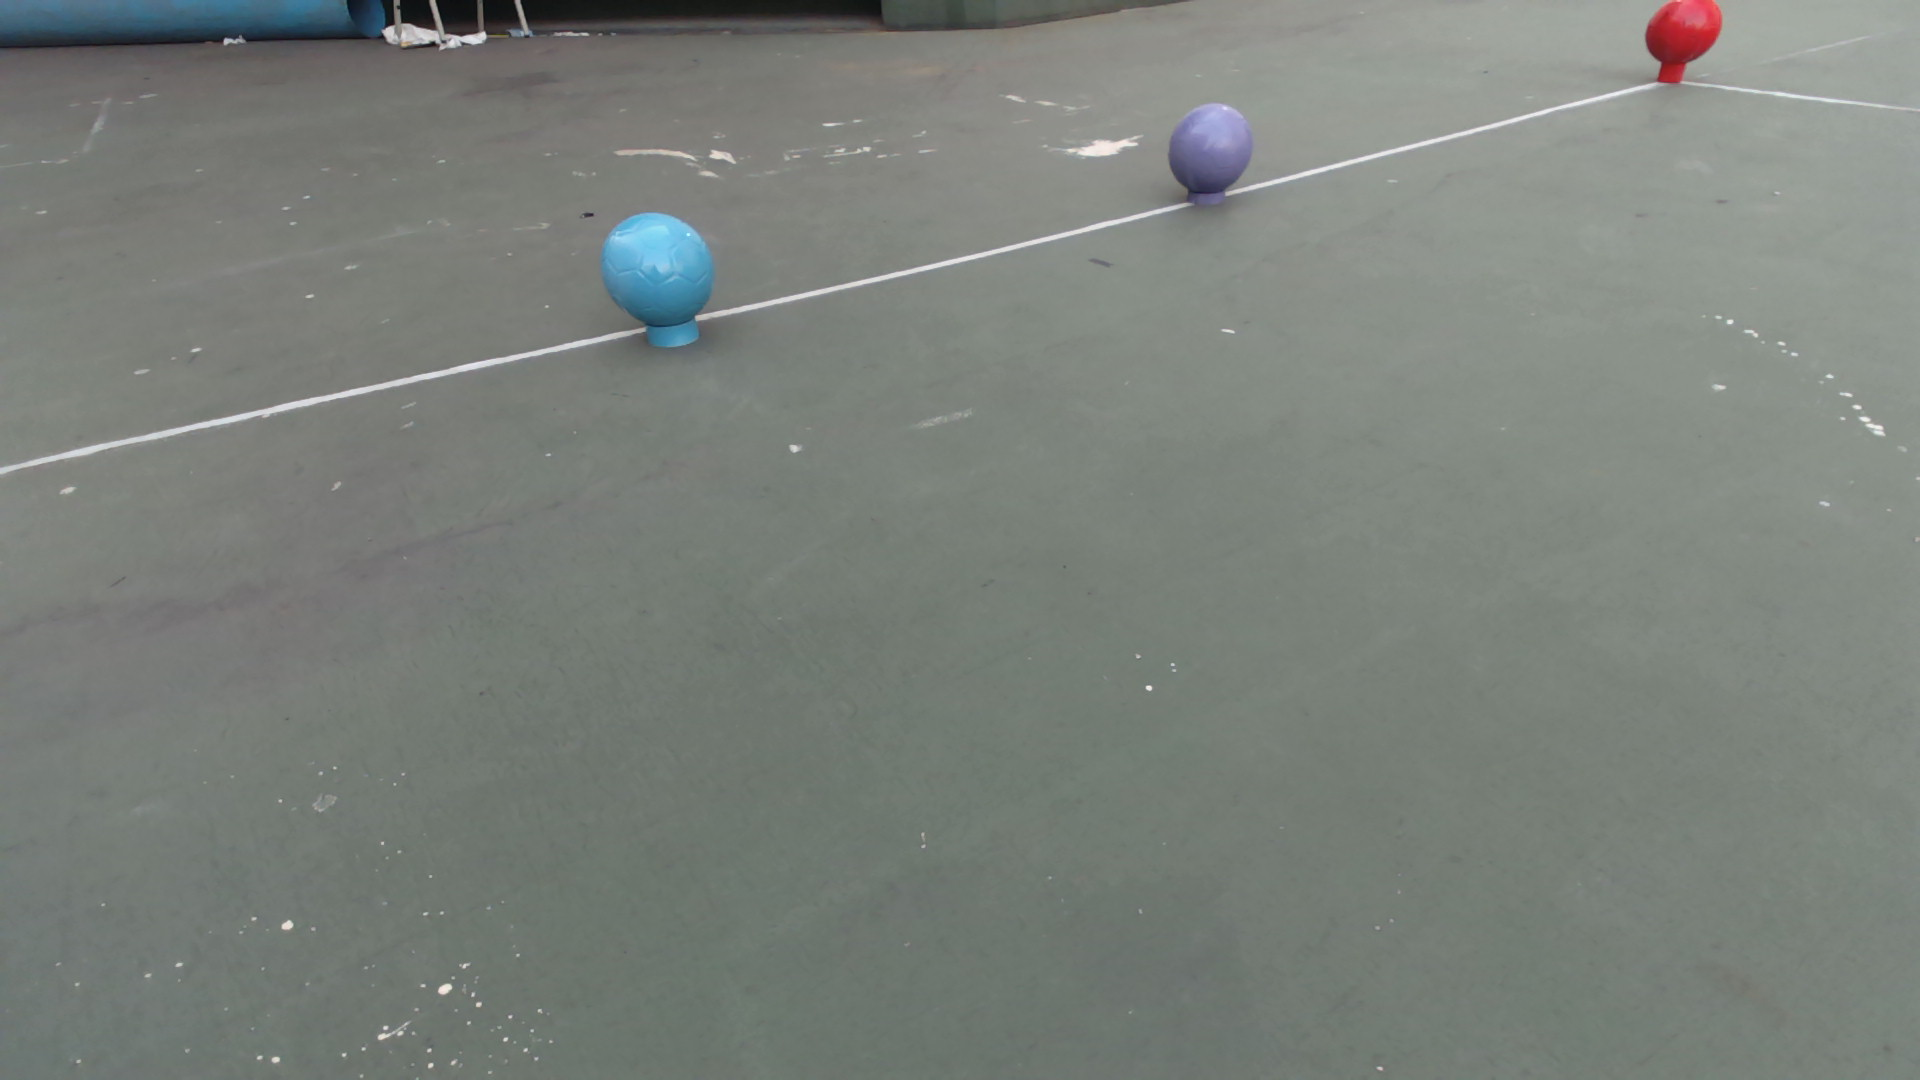Blue ball: (597, 210, 716, 328)
Purple ball: (1166, 103, 1254, 196)
Red ball: (1644, 1, 1724, 66)
